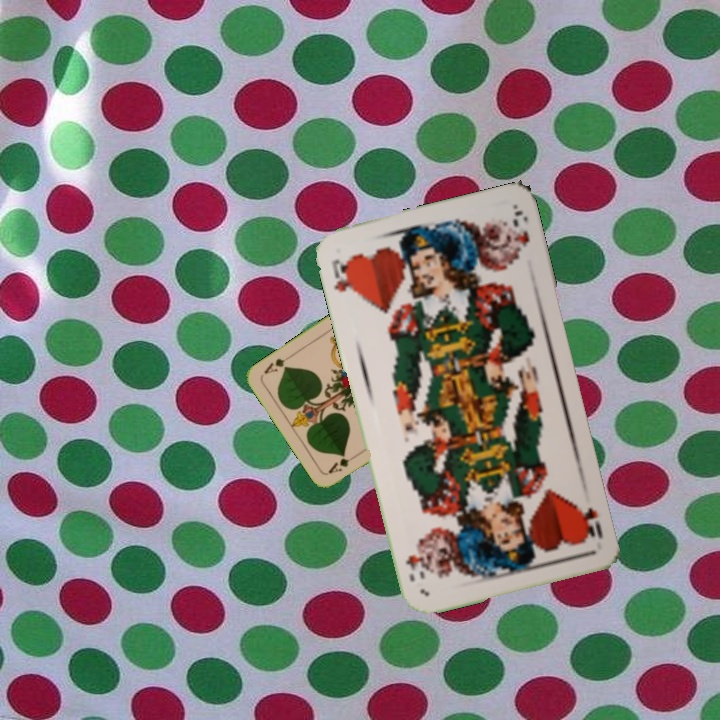GA: (324, 450, 361, 476)
HO: (327, 254, 359, 296), (576, 503, 606, 541)
